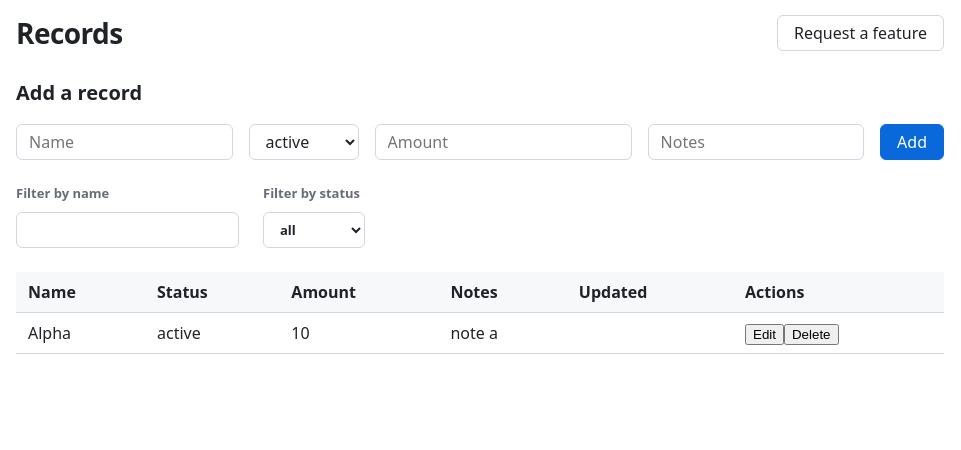
Test: App create › does not add a row when the create is rejected with a 400
Expected: the text "Alpha" is shown, [16,312,145,353]
Type "Bad" into the field named "New name" at point(124, 142), box [16,124,232,160]
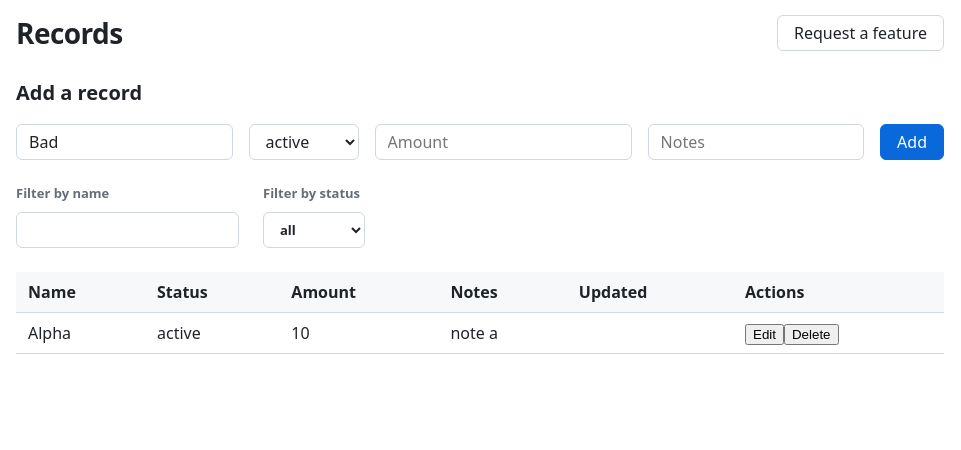
Type "-1" into the number field named "New amount" at point(503, 142), box [374,124,632,160]
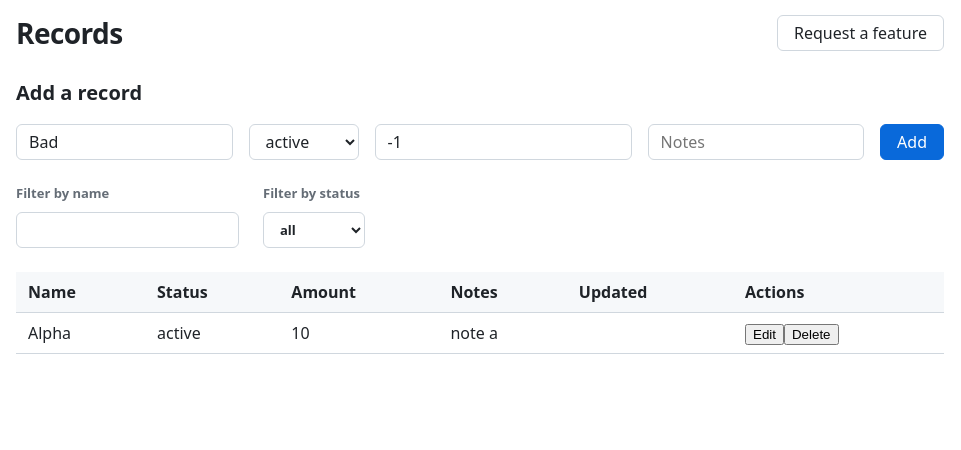
Click the button "Add" at point(912, 142), box [880,124,944,160]
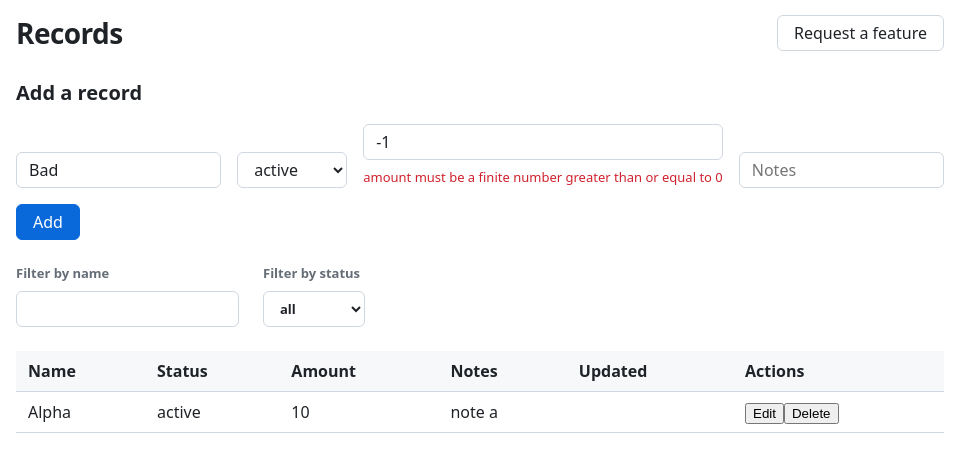
Result: the text "amount must be a finite number greater than or equal to 0" is shown at [363,168,723,188]
